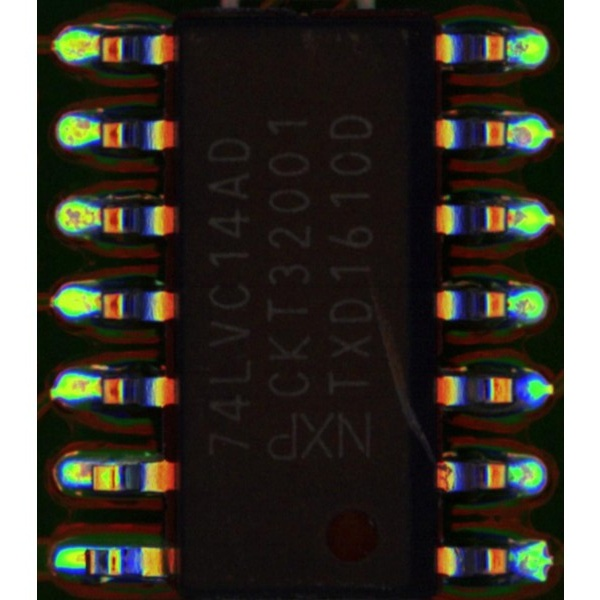Bad_podu: (494, 209, 516, 228), (73, 550, 94, 568), (81, 465, 99, 484)
